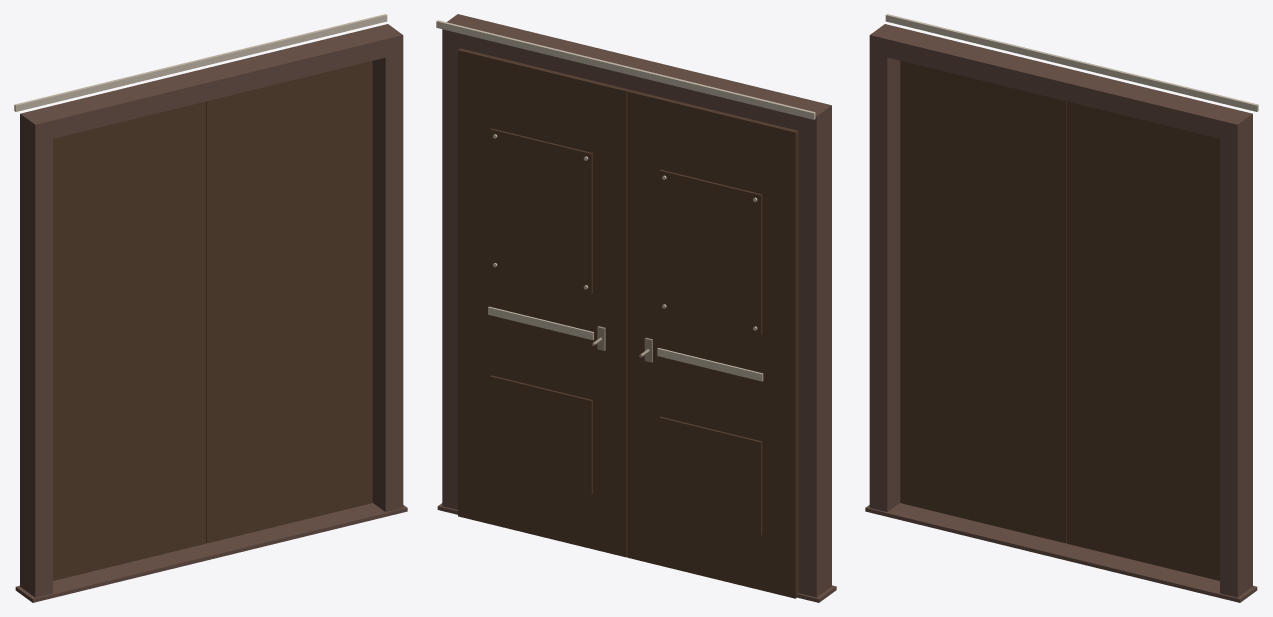
The model's file is mansion_front_door.glb.
3 views of the same model, side by side, from view 1: azimuth 30°, elevation 25°; view 2: azimuth 150°, elevation 25°; view 3: azimuth 330°, elevation 25° (orthographic).
Parts seen in each view (by area): view 1: Door_R, Door_L, Frame_L, Frame_R, Frame_Top, Threshold, Crown; view 2: Door_L, Door_R, Frame_L, Panel_L_U, Panel_R_U, Panel_L_L, Panel_R_L, Frame_Top, Frame_R, Crown, Band_L, Band_R; view 3: Door_L, Door_R, Frame_R, Frame_L, Frame_Top, Threshold, Crown.
Part boxes in pixels (<box>): Door_R: <box>206,61,372,543</box>; Door_L: <box>53,101,206,580</box>; Frame_L: <box>20,109,52,597</box>; Frame_R: <box>371,24,403,511</box>; Frame_Top: <box>21,24,402,142</box>; Threshold: <box>15,503,407,602</box>; Crown: <box>14,14,387,111</box>; Door_L: <box>627,90,798,598</box>; Door_R: <box>458,48,629,557</box>; Frame_L: <box>798,101,831,597</box>; Panel_L_U: <box>659,169,762,334</box>; Panel_R_U: <box>490,128,592,293</box>; Panel_L_L: <box>659,417,762,535</box>; Panel_R_L: <box>490,375,592,494</box>; Frame_Top: <box>442,14,831,134</box>; Frame_R: <box>442,14,474,509</box>; Crown: <box>436,20,815,119</box>; Band_L: <box>657,348,763,381</box>; Band_R: <box>488,306,593,340</box>; Door_L: <box>900,61,1066,543</box>; Door_R: <box>1066,101,1219,580</box>; Frame_R: <box>1220,109,1252,597</box>; Frame_L: <box>869,24,901,511</box>; Frame_Top: <box>869,24,1252,142</box>; Threshold: <box>865,503,1257,602</box>; Crown: <box>885,14,1258,111</box>.
Size of the model in its own units: 2.14 by 2.64 by 0.281.
